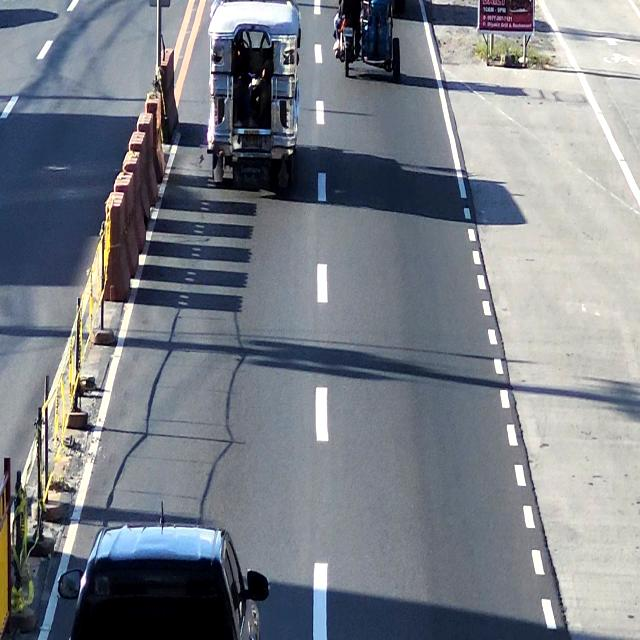Car: (67, 526, 260, 640)
Jeep: (210, 0, 300, 190)
License-Plate: (240, 131, 264, 150)
Tricycle: (334, 0, 406, 86)
